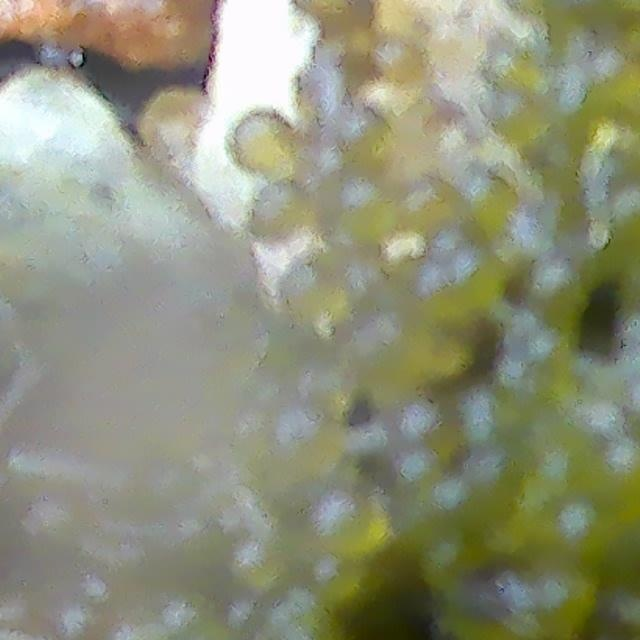SeaGrape: (310, 491, 386, 556), (557, 500, 616, 564), (276, 256, 337, 317), (342, 178, 401, 239), (232, 114, 292, 172), (251, 184, 309, 235), (233, 537, 286, 590), (340, 106, 387, 158), (312, 556, 361, 600)
